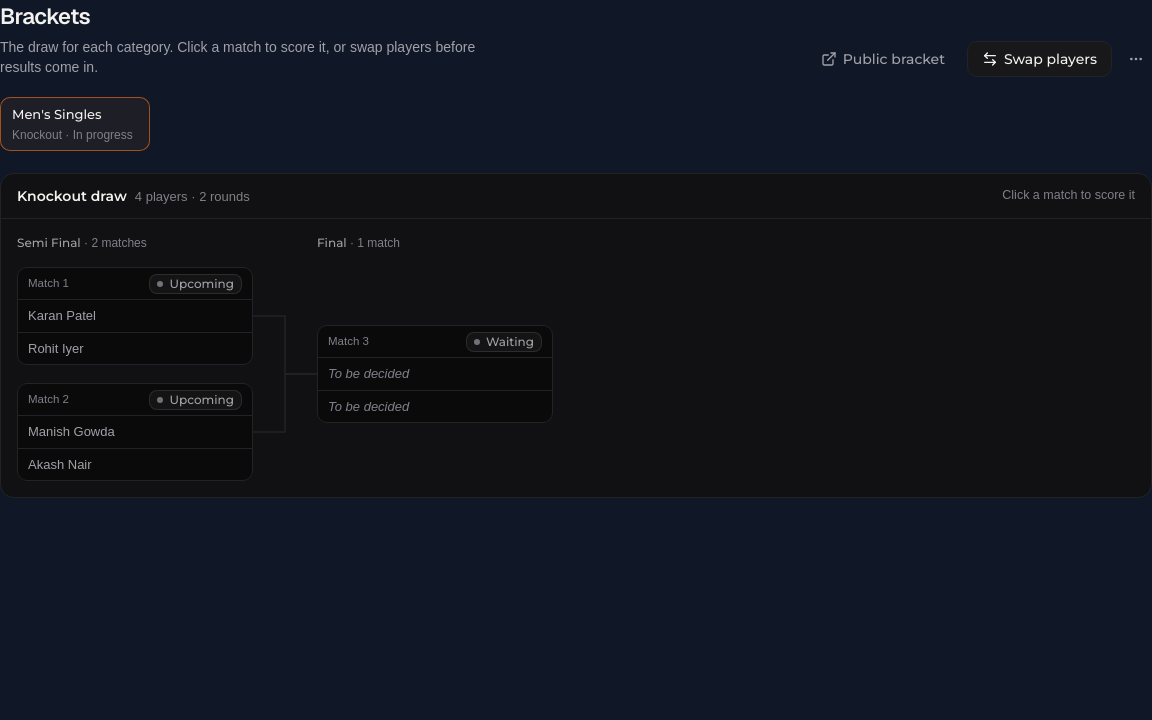
Scenario: BracketManagementSection › opens a match dialog with the sport's scoring slot
The image size is (1152, 720).
What coordinates should you click on to do the following:
click the button with aria-label "Match 1: Karan Patel vs Rohit Iyer"
I would click on:
 (135, 332)
Its box is left=18, top=300, right=252, bottom=364.
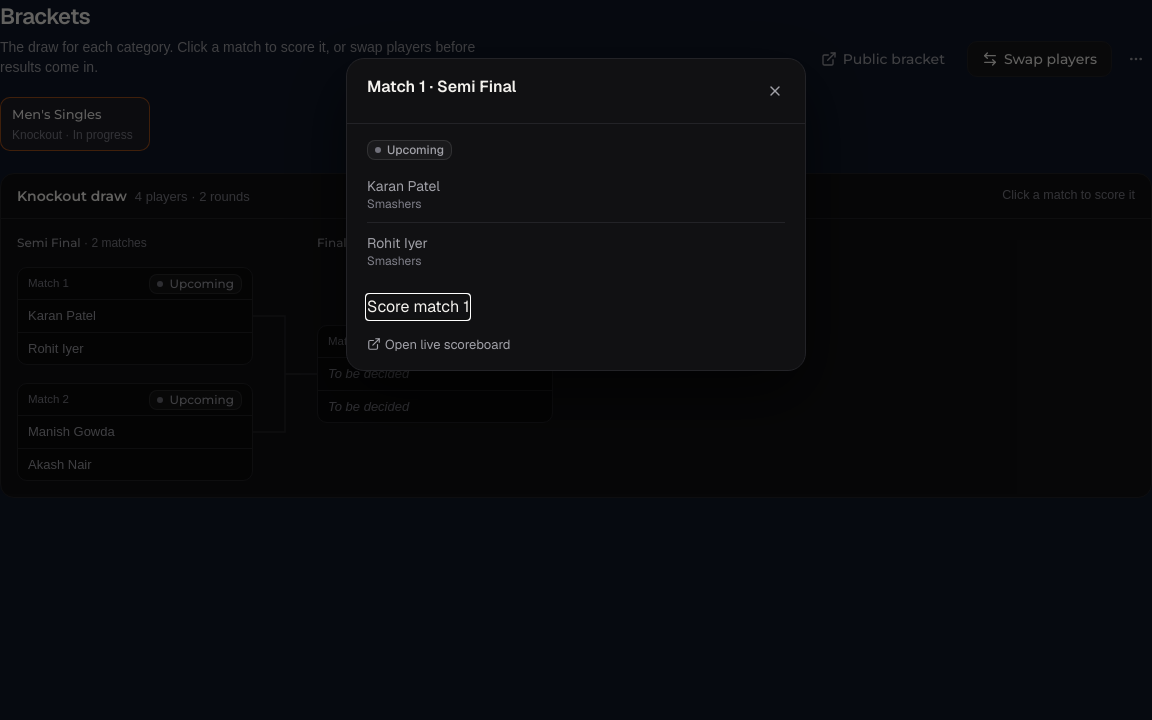
Now the button "Score match 1" is shown, box left=367, top=295, right=469, bottom=319
